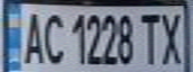1: (66, 9, 87, 65)
2: (100, 10, 121, 66), (84, 10, 103, 65)
8: (115, 10, 139, 65)
A: (18, 8, 45, 65)
C: (39, 8, 66, 65)
T: (136, 9, 163, 65)
X: (154, 8, 190, 66)
